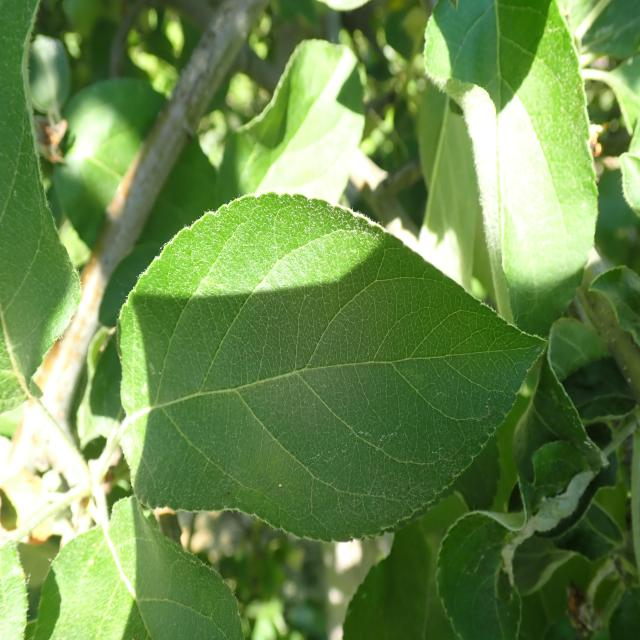healthy: (119, 192, 548, 544), (418, 0, 599, 338), (0, 0, 81, 412), (31, 494, 248, 640), (218, 36, 370, 212), (435, 510, 523, 640)
